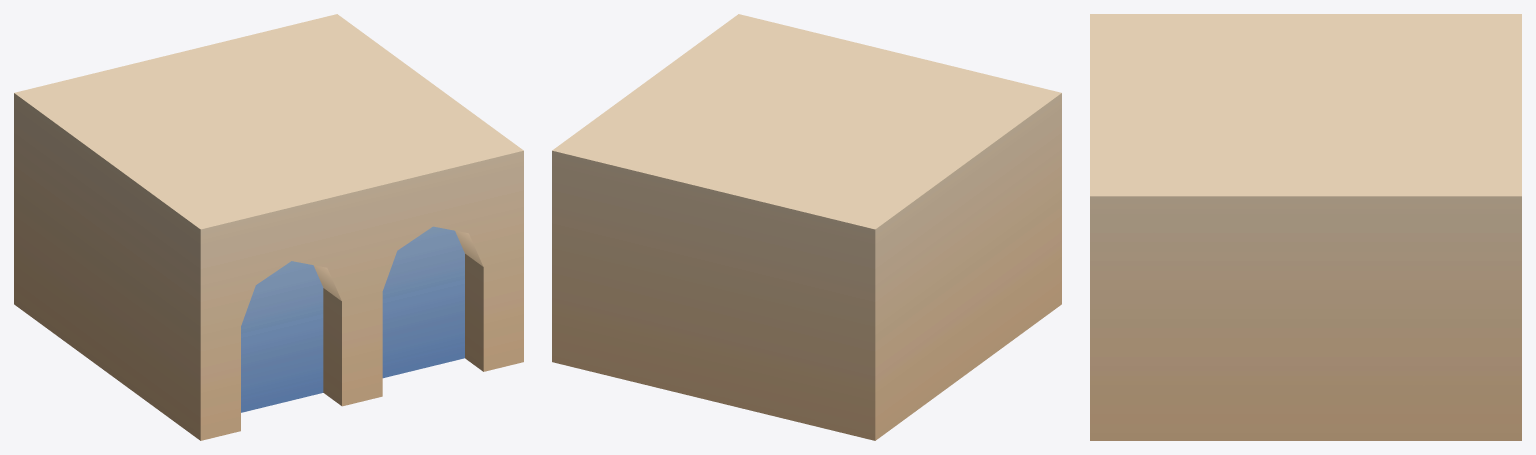
The model's file is kenney-modular-buildings-building-windows-high-top-round.glb.
3 renders of one model, left to right at view 1: azimuth 30°, elevation 25°; view 2: azimuth 150°, elevation 25°; view 3: azimuth 270°, elevation 25°, orthographic. The views are drawn at different scales.
Parts seen in each view (by area): view 1: building-windows-high-top-round; view 2: building-windows-high-top-round; view 3: building-windows-high-top-round.
Boxes of the visible parts, x1=… form: building-windows-high-top-round: x1=14, y1=14, x2=523, y2=440; building-windows-high-top-round: x1=552, y1=14, x2=1061, y2=440; building-windows-high-top-round: x1=1090, y1=14, x2=1521, y2=440.
Size of the model in its own units: 1 by 0.625 by 1.
1 material, 1 textured.
